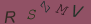M: (55, 3, 69, 17)
R: (4, 10, 16, 24)
S: (27, 9, 37, 20)
V: (71, 4, 85, 18)
Z: (38, 1, 51, 13)
